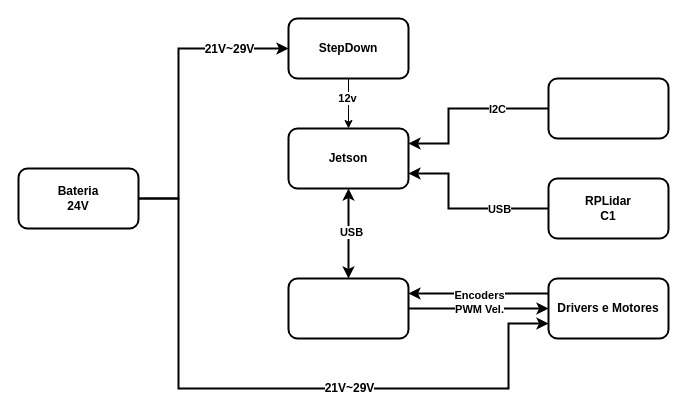
This 686x414 diagram has some shape labels left out. The shapes that lost their labels are listed below. From the top down, each one's centre as x and y in pixels, then its label:
At [608,108]: "IMU".
At [348,308]: "STM32".
